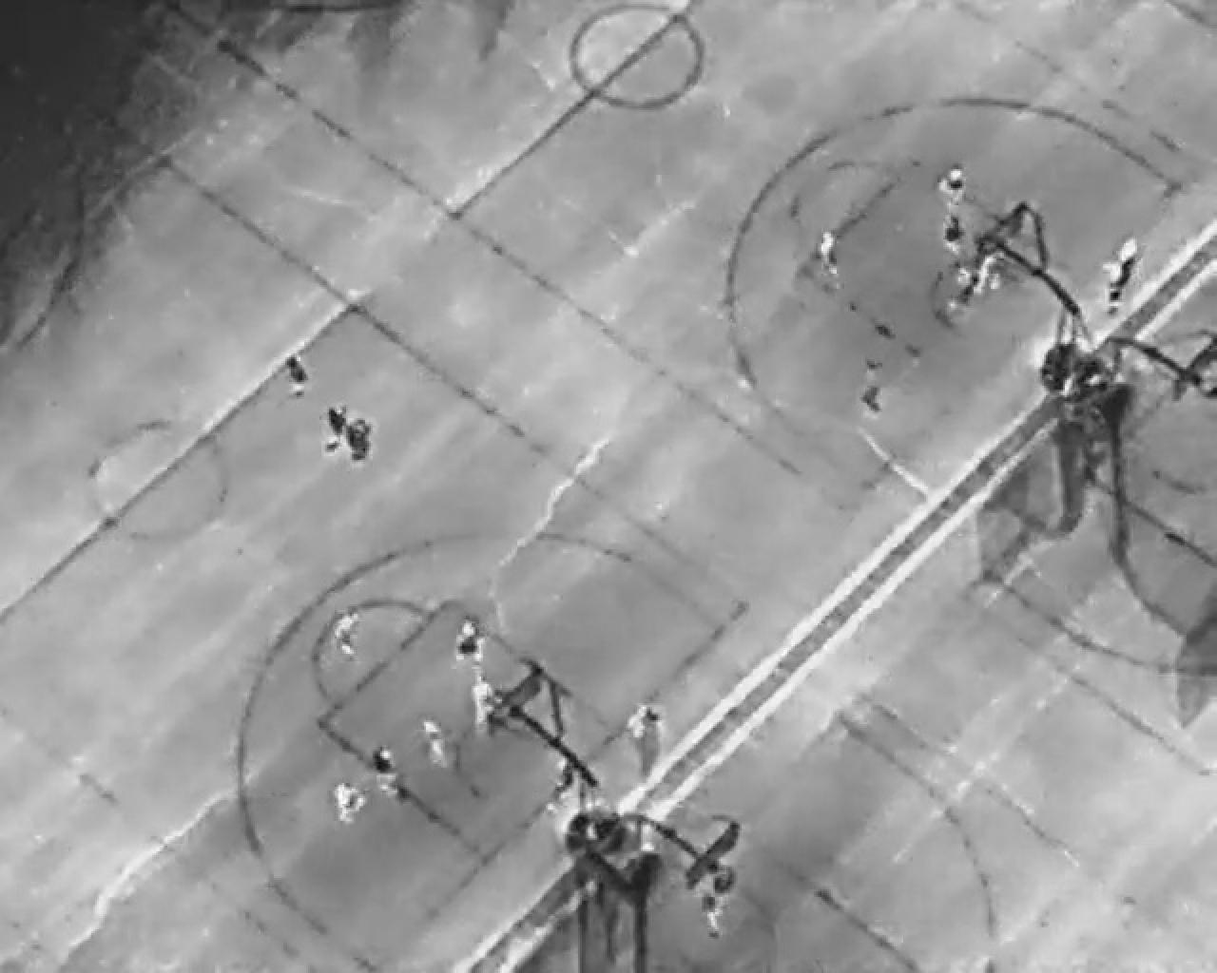person: (454, 615, 488, 672), (415, 714, 446, 769), (334, 782, 364, 824), (632, 704, 661, 744), (699, 894, 727, 934), (374, 746, 395, 795), (819, 231, 840, 280), (336, 609, 360, 651), (952, 263, 973, 311), (328, 404, 347, 457), (473, 677, 492, 729), (288, 353, 307, 400), (1106, 259, 1123, 311), (942, 164, 965, 202), (353, 419, 372, 459), (944, 216, 963, 254), (1121, 233, 1140, 271)
